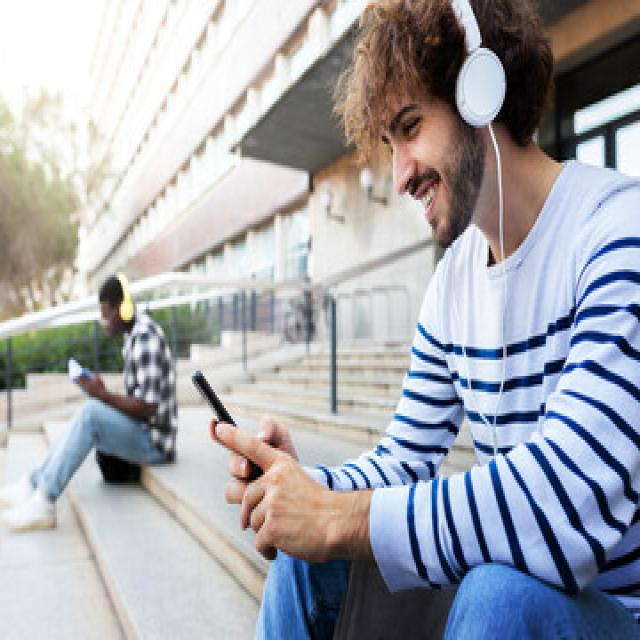Headphone: (446, 0, 506, 134)
